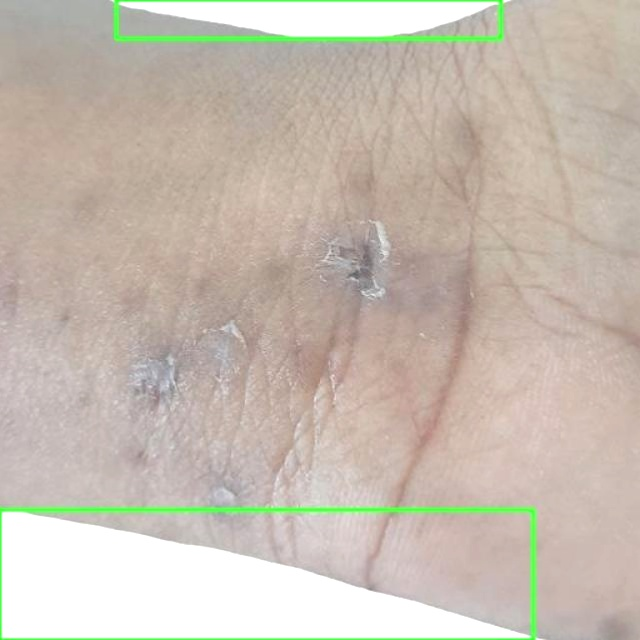Scabies: (0, 509, 534, 639), (116, 0, 500, 38)
